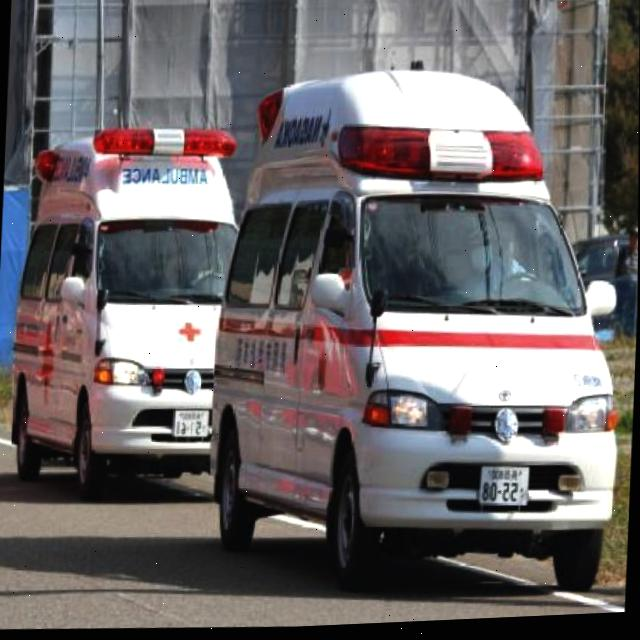emergency: (203, 50, 635, 611), (7, 117, 244, 505)
